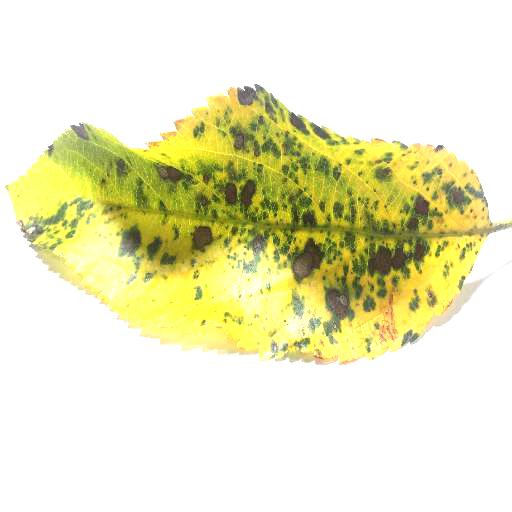Brown_Spot: (375, 242, 423, 271), (156, 160, 191, 185), (221, 180, 254, 206), (405, 195, 427, 230), (322, 287, 347, 317), (118, 228, 144, 256), (293, 247, 317, 275), (189, 226, 214, 250), (240, 80, 261, 104), (448, 182, 464, 212), (228, 129, 249, 151), (74, 123, 89, 141)
